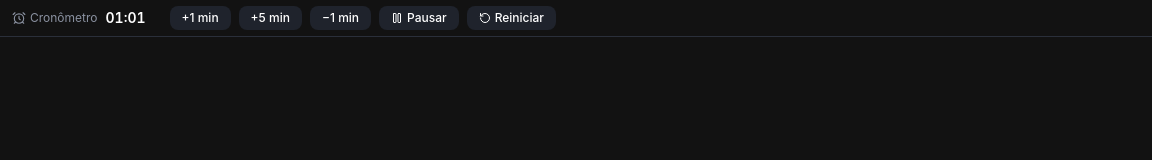
Test case: LiveCountdownControls › shows the command error as its localized message
Click the button "−1 min".
click(341, 18)  # box [310,6,371,30]
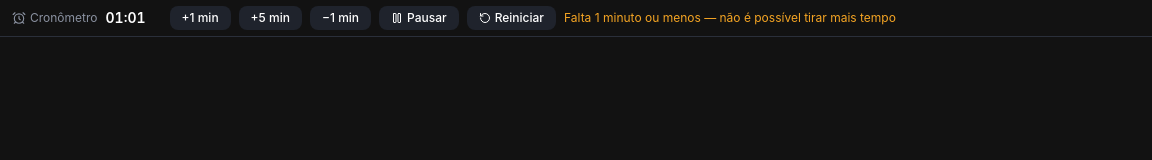
Result: the message reads "Falta 1 minuto ou menos — não é possível tirar mais tempo" at [564,10,896,25]
